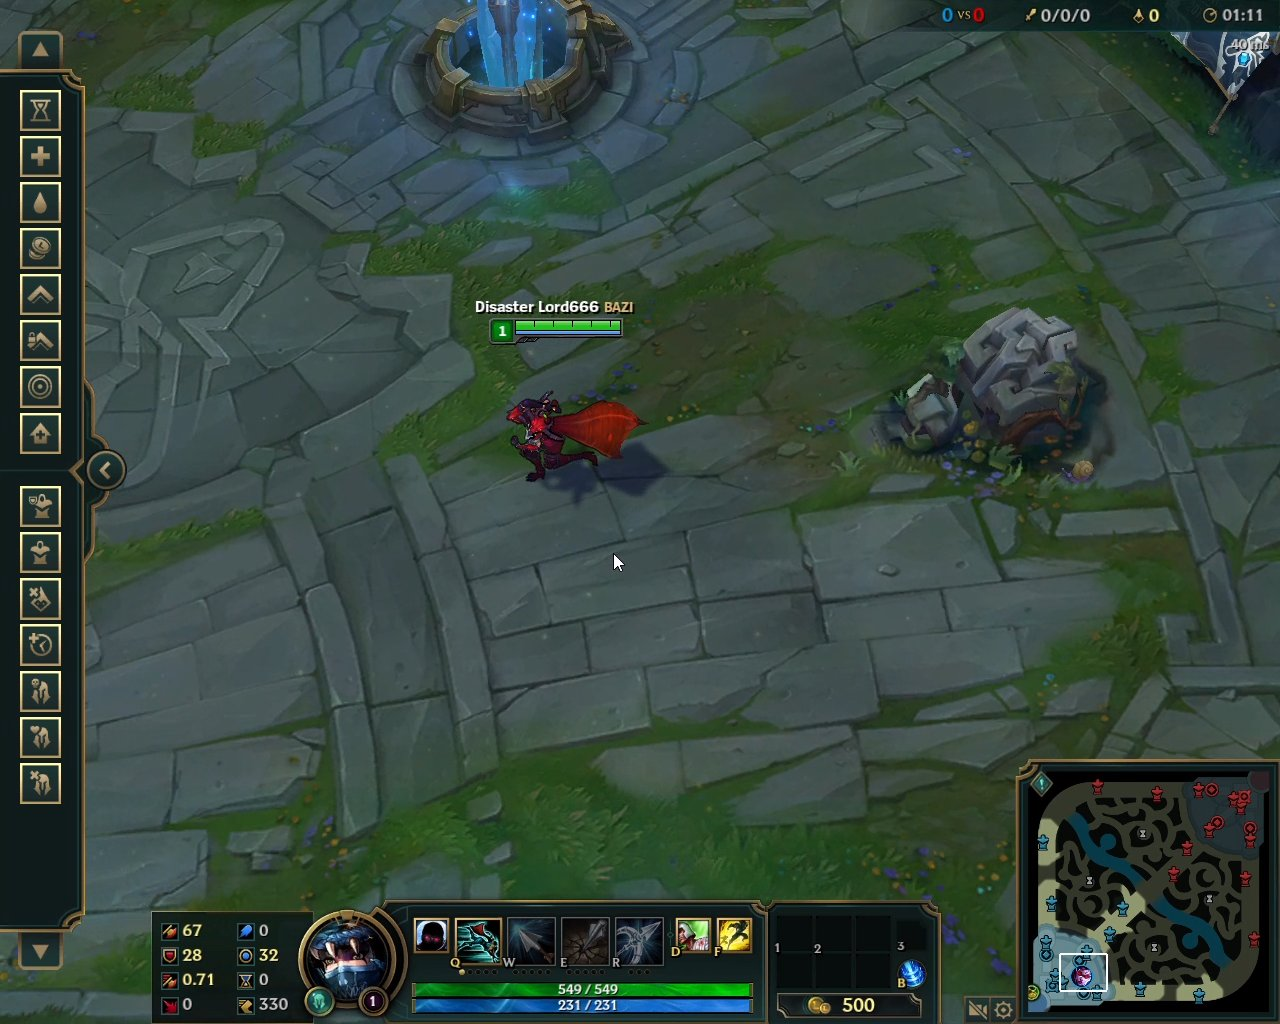Vayne: (499, 385, 654, 487)
